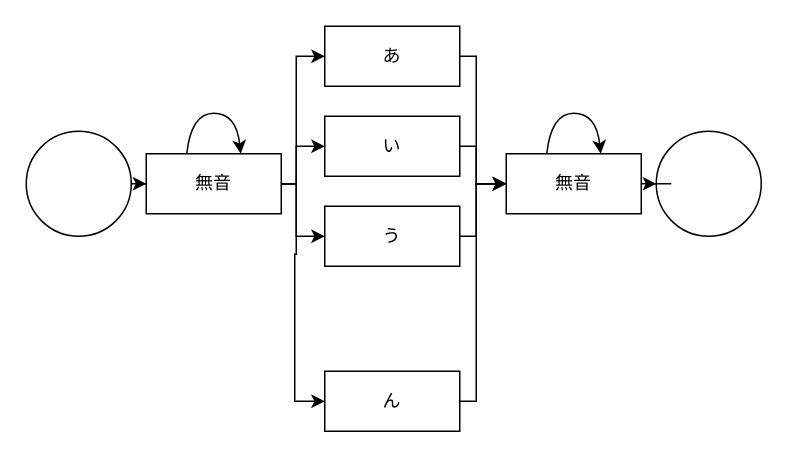
This 788x458 diagram has some shape labels left out. The shapes that lost their labels are listed below. From the top down, each one's centre as x and y in pixels, then its label:
point 78,183: start
point 708,183: end
